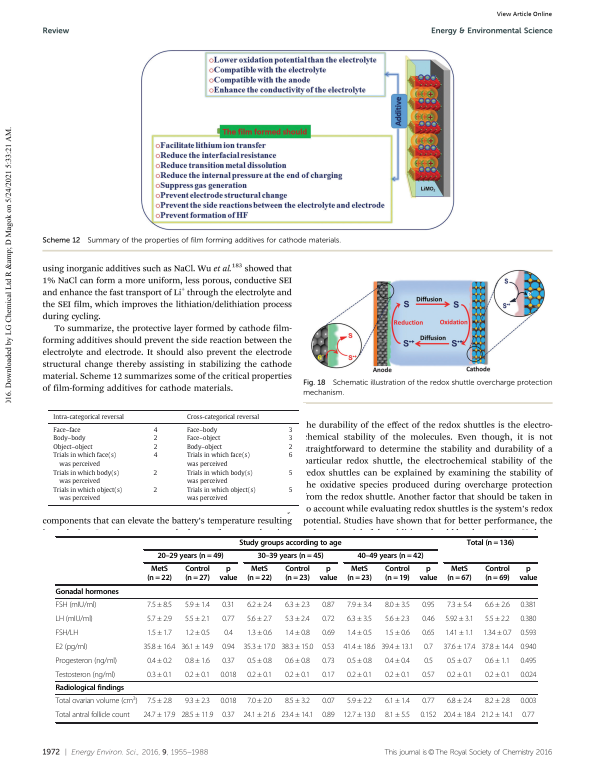borderless: (54, 535, 537, 722), (47, 408, 299, 505)
cell: (52, 486, 123, 503), (186, 486, 257, 503), (52, 468, 120, 485), (186, 468, 254, 485), (52, 451, 117, 468), (186, 451, 251, 468), (238, 539, 342, 548), (55, 695, 138, 706), (256, 552, 325, 562), (55, 711, 131, 720), (156, 552, 224, 562), (356, 552, 424, 562), (55, 587, 120, 597), (55, 656, 118, 666), (55, 684, 125, 693), (55, 670, 116, 680), (186, 413, 260, 421), (52, 413, 125, 421), (146, 565, 173, 584), (184, 565, 211, 584), (246, 565, 273, 584), (284, 565, 311, 584), (346, 565, 373, 584), (384, 565, 411, 584), (446, 565, 473, 584), (484, 565, 511, 584), (466, 539, 515, 548), (55, 600, 97, 610), (55, 614, 94, 624), (318, 565, 338, 584), (418, 565, 438, 584), (518, 565, 538, 584), (219, 565, 238, 584), (142, 642, 176, 652), (180, 642, 214, 652), (242, 642, 276, 652), (280, 642, 314, 652), (342, 642, 376, 652), (380, 642, 414, 652), (442, 642, 476, 652), (480, 642, 514, 652), (52, 443, 94, 451), (55, 642, 88, 652), (52, 434, 87, 443), (186, 434, 221, 443), (444, 628, 475, 638), (482, 628, 513, 638), (142, 711, 176, 720), (180, 711, 214, 720), (242, 711, 276, 720), (280, 711, 314, 720), (342, 711, 376, 720), (442, 711, 476, 720), (480, 711, 514, 720), (444, 614, 474, 624), (186, 443, 223, 451), (146, 600, 173, 610), (184, 600, 211, 610), (246, 600, 273, 610), (284, 600, 311, 610), (346, 600, 373, 610), (384, 600, 411, 610), (446, 600, 473, 610), (484, 600, 511, 610), (146, 614, 173, 624), (184, 614, 211, 624), (246, 614, 273, 624), (284, 614, 311, 624), (346, 614, 373, 624), (384, 614, 411, 624), (484, 614, 511, 624), (146, 628, 173, 638), (184, 628, 211, 638), (246, 628, 273, 638), (284, 628, 311, 638), (346, 628, 373, 638), (384, 628, 411, 638), (146, 656, 173, 666), (184, 656, 211, 666), (246, 656, 273, 666), (284, 656, 311, 666), (346, 656, 373, 666), (384, 656, 411, 666), (446, 656, 473, 666), (484, 656, 511, 666), (146, 670, 173, 680), (184, 670, 211, 680), (246, 670, 273, 680), (284, 670, 311, 680), (346, 670, 373, 680), (384, 670, 411, 680), (446, 670, 473, 680), (484, 670, 511, 680), (186, 426, 218, 434), (146, 697, 173, 706), (184, 697, 211, 706), (246, 697, 273, 706), (284, 697, 311, 706), (346, 697, 373, 706), (384, 697, 411, 706), (446, 697, 473, 706), (484, 697, 511, 706), (384, 711, 411, 720), (52, 426, 82, 434), (55, 628, 79, 638), (519, 600, 537, 610), (519, 614, 537, 624), (519, 628, 537, 638), (519, 642, 537, 652), (519, 656, 537, 666), (219, 670, 237, 680), (519, 670, 537, 680), (219, 697, 237, 706), (519, 697, 537, 706), (419, 711, 437, 720), (221, 600, 236, 610), (321, 600, 336, 610), (321, 628, 336, 638), (421, 628, 436, 638), (321, 642, 336, 652), (221, 656, 236, 666), (321, 656, 336, 666), (321, 670, 336, 680), (421, 600, 435, 610), (221, 614, 235, 624), (321, 614, 335, 624), (421, 614, 435, 624), (221, 642, 235, 652), (421, 670, 435, 680), (321, 697, 336, 706), (321, 711, 336, 720), (421, 697, 435, 706), (221, 711, 235, 720), (521, 711, 535, 720), (223, 628, 234, 638), (423, 642, 434, 652), (423, 656, 434, 666), (288, 434, 294, 443), (288, 451, 294, 460), (288, 468, 294, 477), (288, 426, 294, 434), (288, 443, 294, 451), (288, 486, 294, 494), (153, 434, 158, 443), (153, 451, 158, 460), (153, 468, 158, 477), (153, 426, 158, 434), (153, 443, 158, 451), (153, 486, 158, 494)
